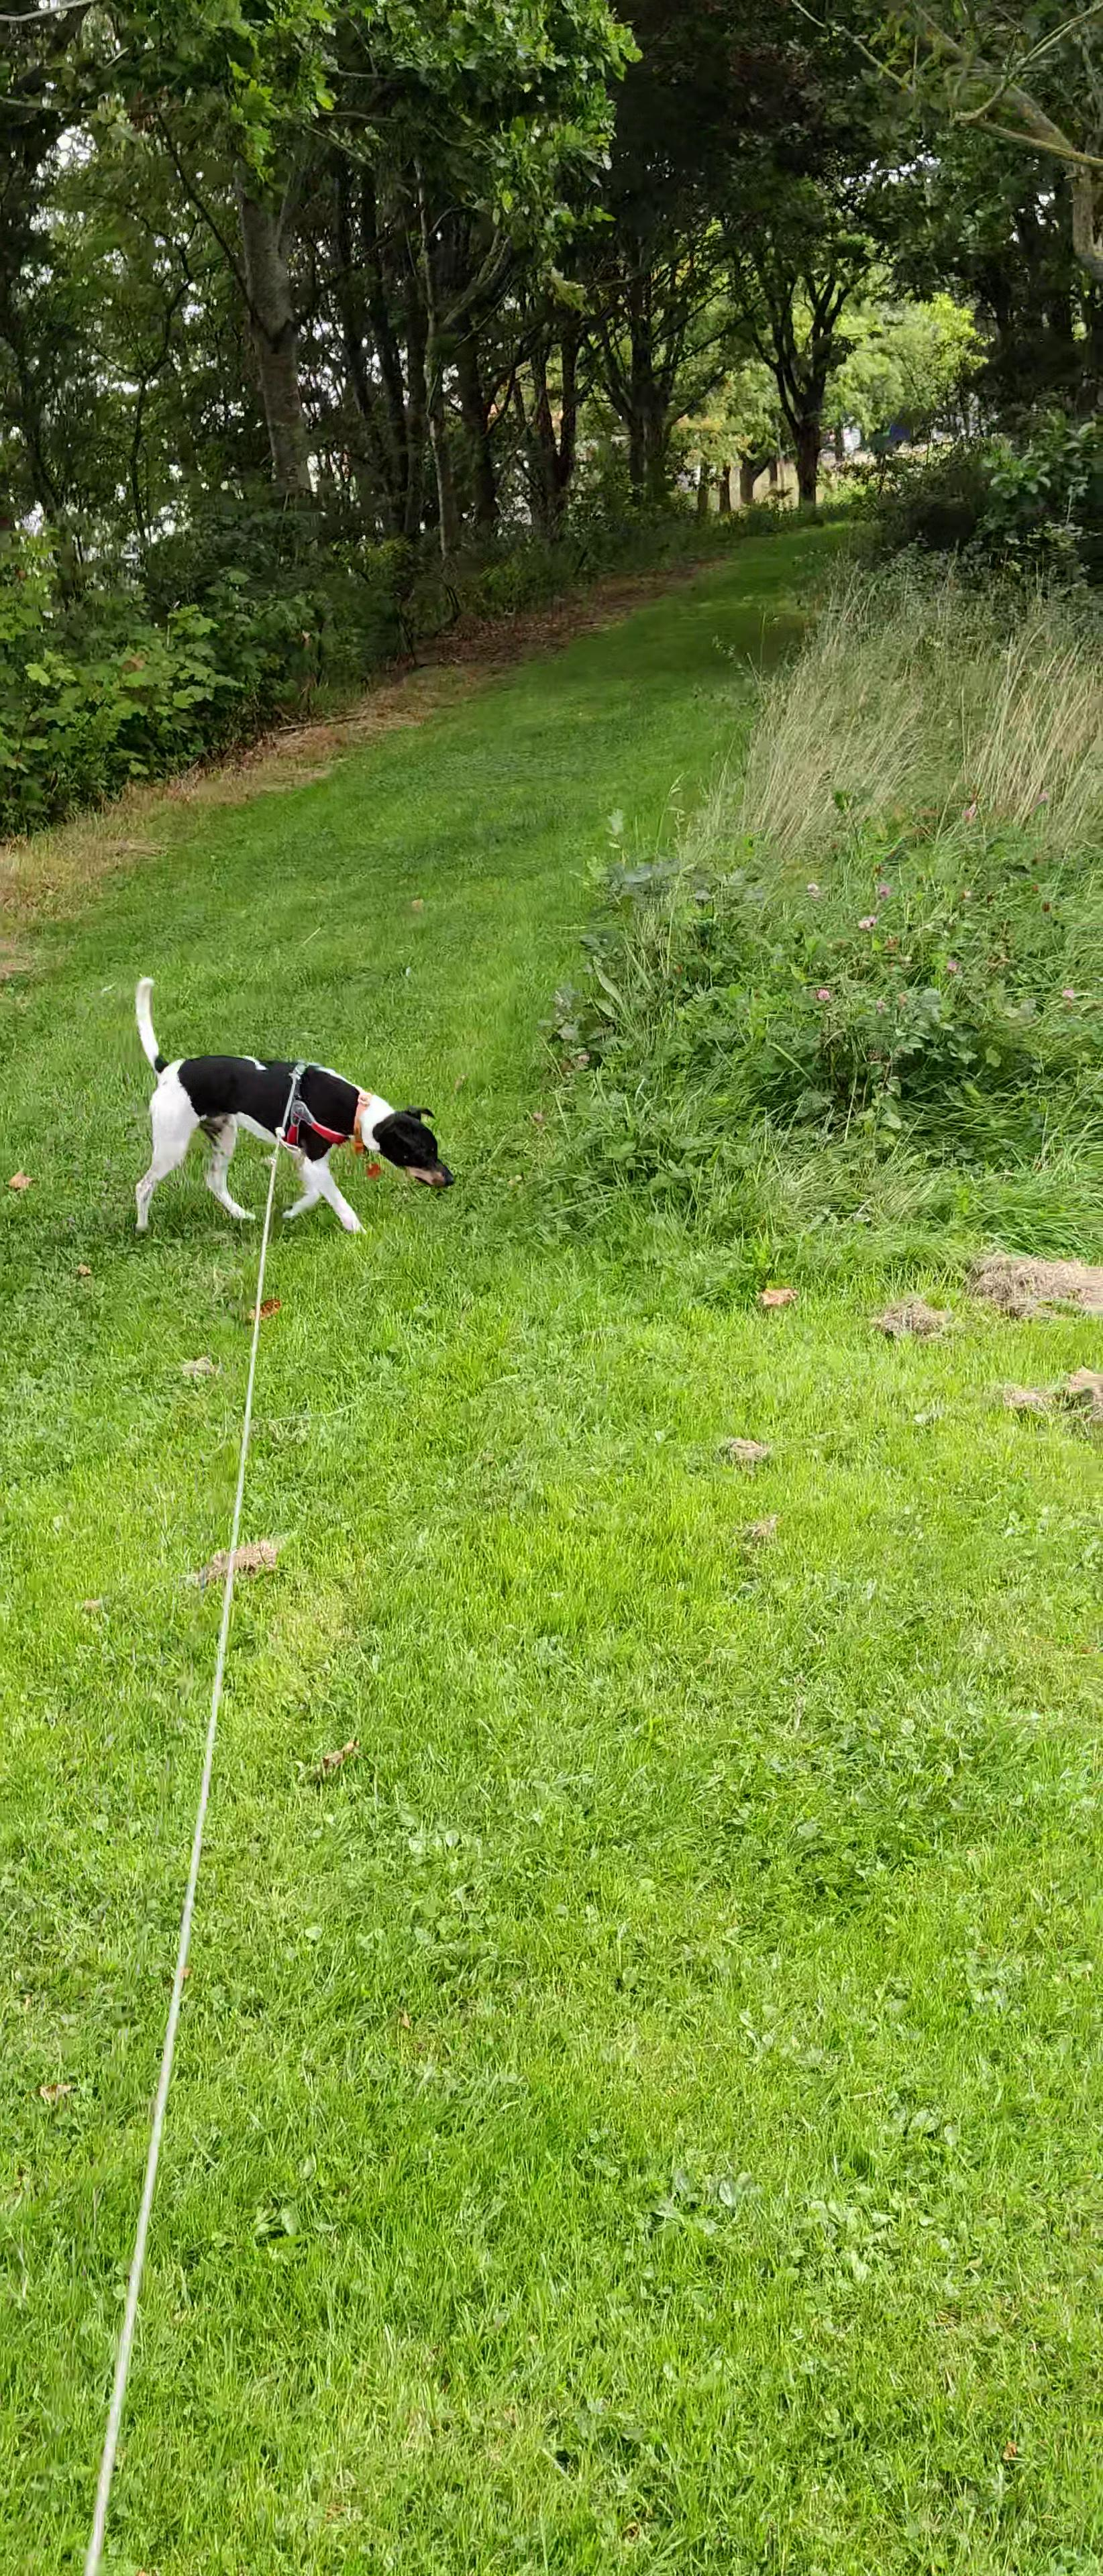Dog: (113, 976, 455, 1258)
